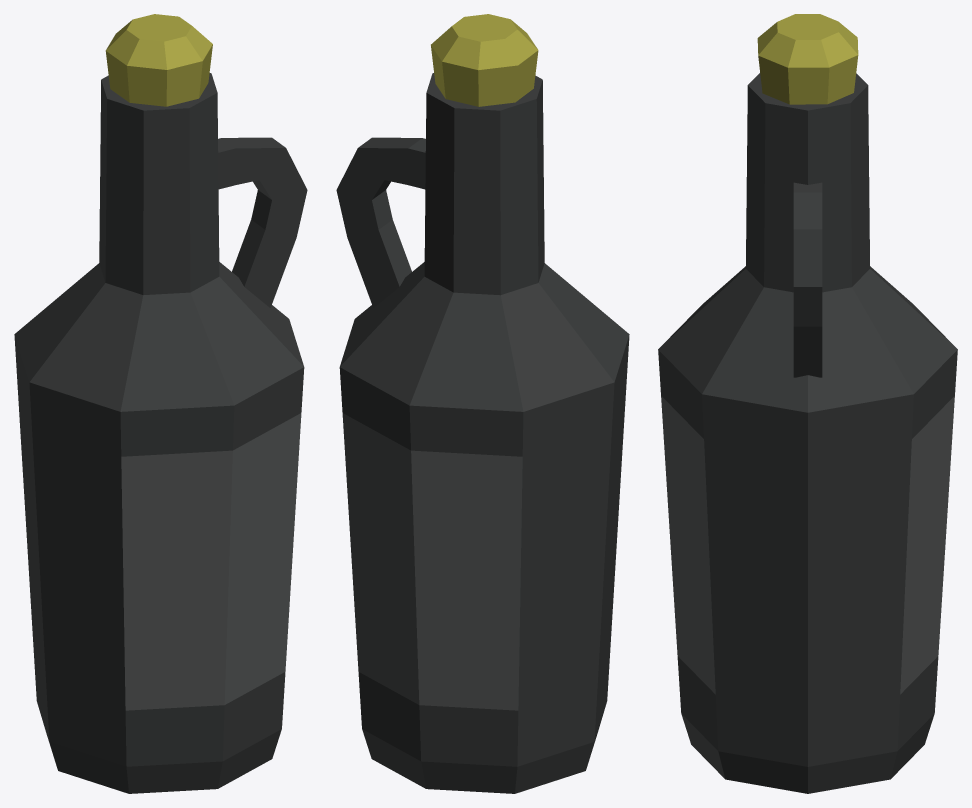
The model's file is Bottle_5_Black.fbx.
The picture shows the model from 3 angles, left to right: view 1: azimuth 30°, elevation 25°; view 2: azimuth 150°, elevation 25°; view 3: azimuth 270°, elevation 25°; orthographic projection.
Parts seen in each view (by area): view 1: Bottle_5_Black_Part_1, Bottle_5_Black_Part_2, Bottle_5_Black_Part_3; view 2: Bottle_5_Black_Part_1, Bottle_5_Black_Part_2, Bottle_5_Black_Part_3; view 3: Bottle_5_Black_Part_1, Bottle_5_Black_Part_2, Bottle_5_Black_Part_3.
Part boxes in pixels (<box>): Bottle_5_Black_Part_1: <box>14,73,307,793</box>; Bottle_5_Black_Part_2: <box>121,413,301,710</box>; Bottle_5_Black_Part_3: <box>105,14,212,106</box>; Bottle_5_Black_Part_1: <box>336,73,629,793</box>; Bottle_5_Black_Part_2: <box>342,413,522,710</box>; Bottle_5_Black_Part_3: <box>431,14,538,106</box>; Bottle_5_Black_Part_1: <box>658,73,957,793</box>; Bottle_5_Black_Part_2: <box>661,396,954,694</box>; Bottle_5_Black_Part_3: <box>757,14,858,104</box>.
Size of the model in its own units: 12.08 by 30.59 by 11.58.
